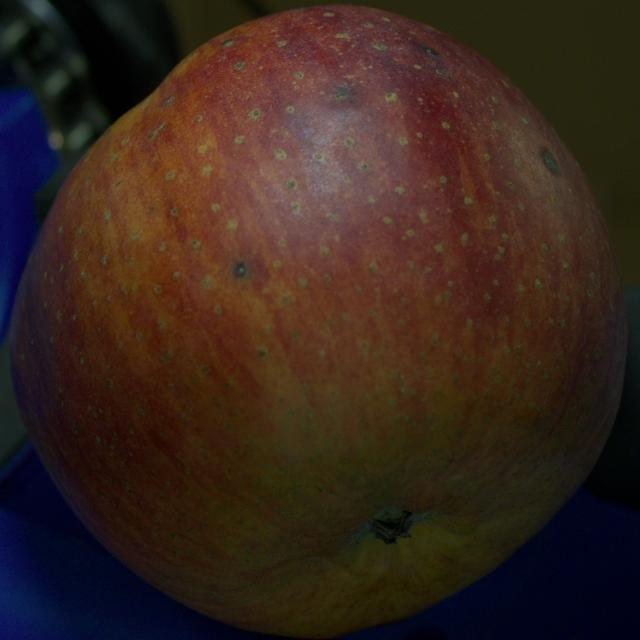apple: (11, 6, 626, 638)
pest: (541, 149, 559, 174), (421, 44, 439, 57), (234, 262, 246, 278), (335, 88, 349, 99)
